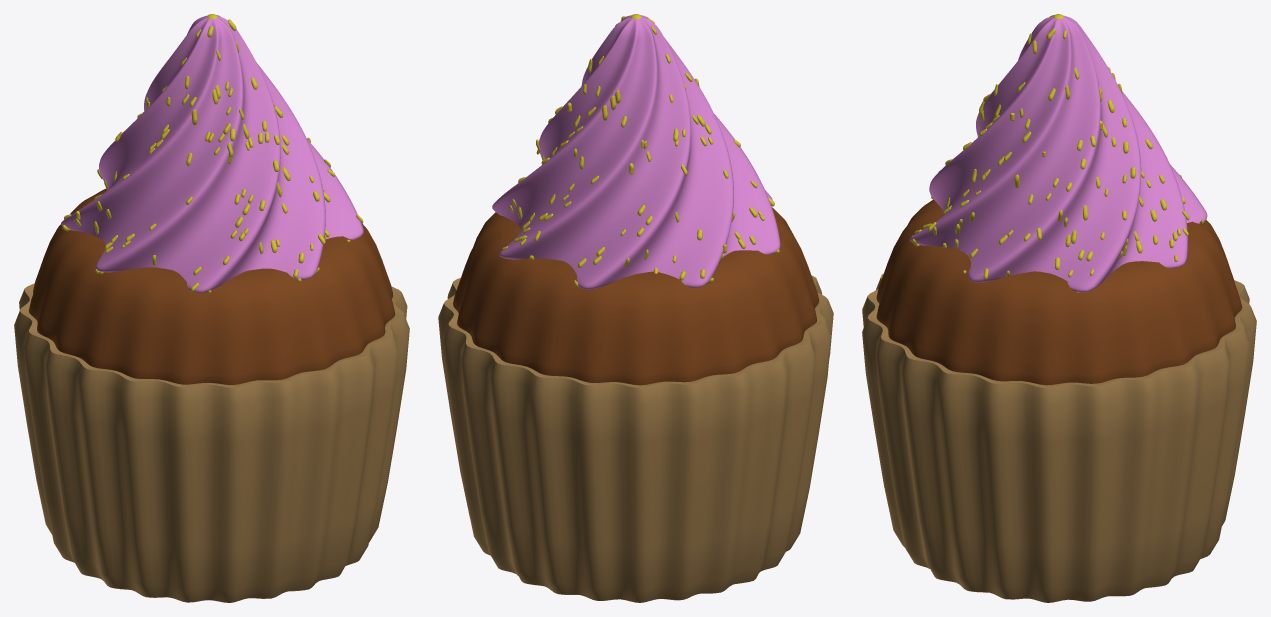
File: cupcake.gltf
3 renders of one model, left to right at view 1: azimuth 30°, elevation 25°; view 2: azimuth 150°, elevation 25°; view 3: azimuth 270°, elevation 25°, orthographic.
Parts seen in each view (by area): view 1: envase, crema, chocolate; view 2: envase, crema, chocolate; view 3: envase, crema, chocolate.
Boxes of the visible parts, x1,y1,x2,y2 form: envase: [14, 283, 409, 602]; crema: [61, 15, 363, 292]; chocolate: [28, 188, 395, 384]; envase: [438, 275, 833, 602]; crema: [492, 15, 780, 289]; chocolate: [453, 207, 819, 385]; envase: [862, 273, 1256, 602]; crema: [910, 15, 1207, 292]; chocolate: [876, 199, 1242, 385].
Size of the model in its own units: 1.96 by 2.97 by 1.95.
